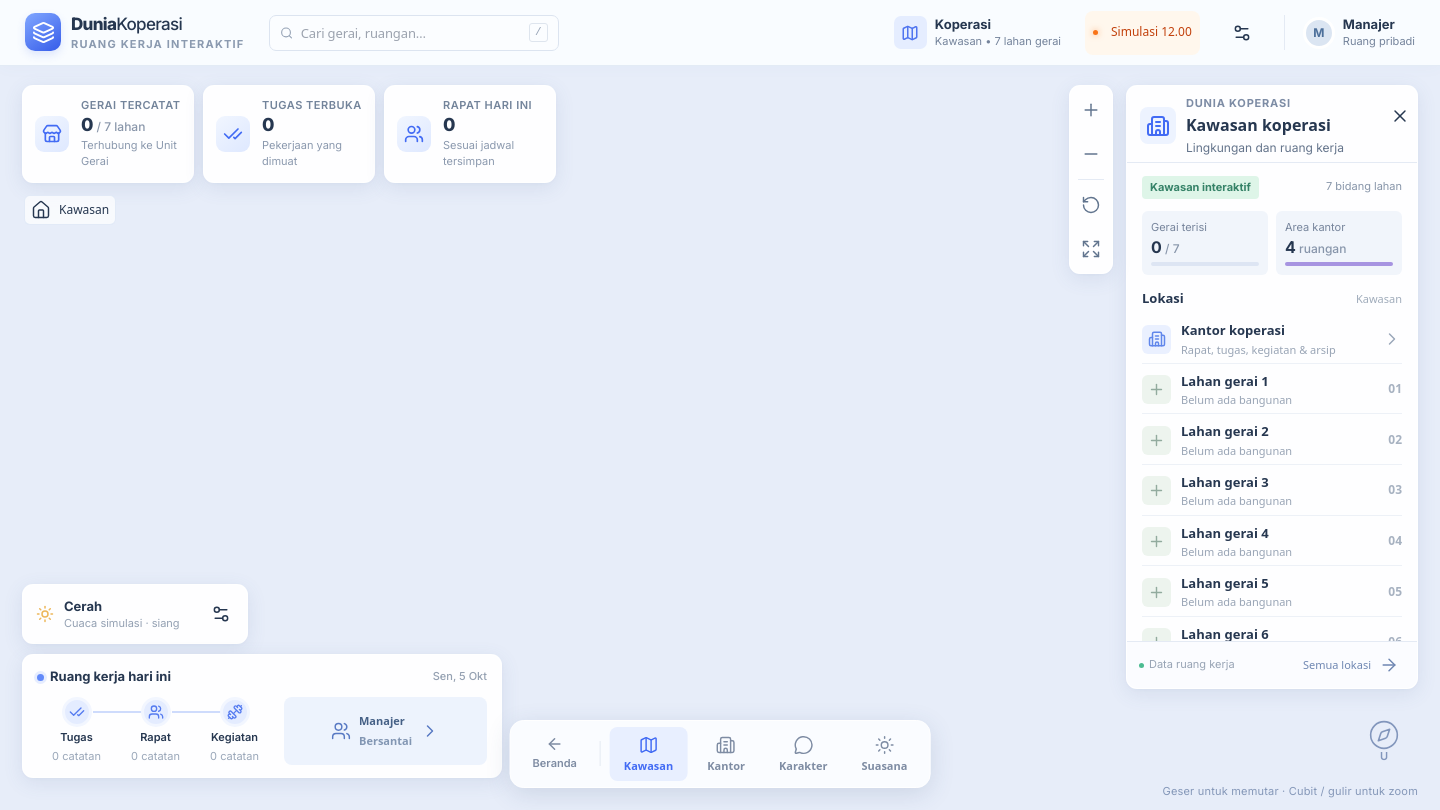
Test: preferensi korup tidak mencegah halaman tampil
The image size is (1440, 810).
Step 1. Click the button "Suasana" → x=884, y=754, box x1=848 y1=727 x2=921 y2=781
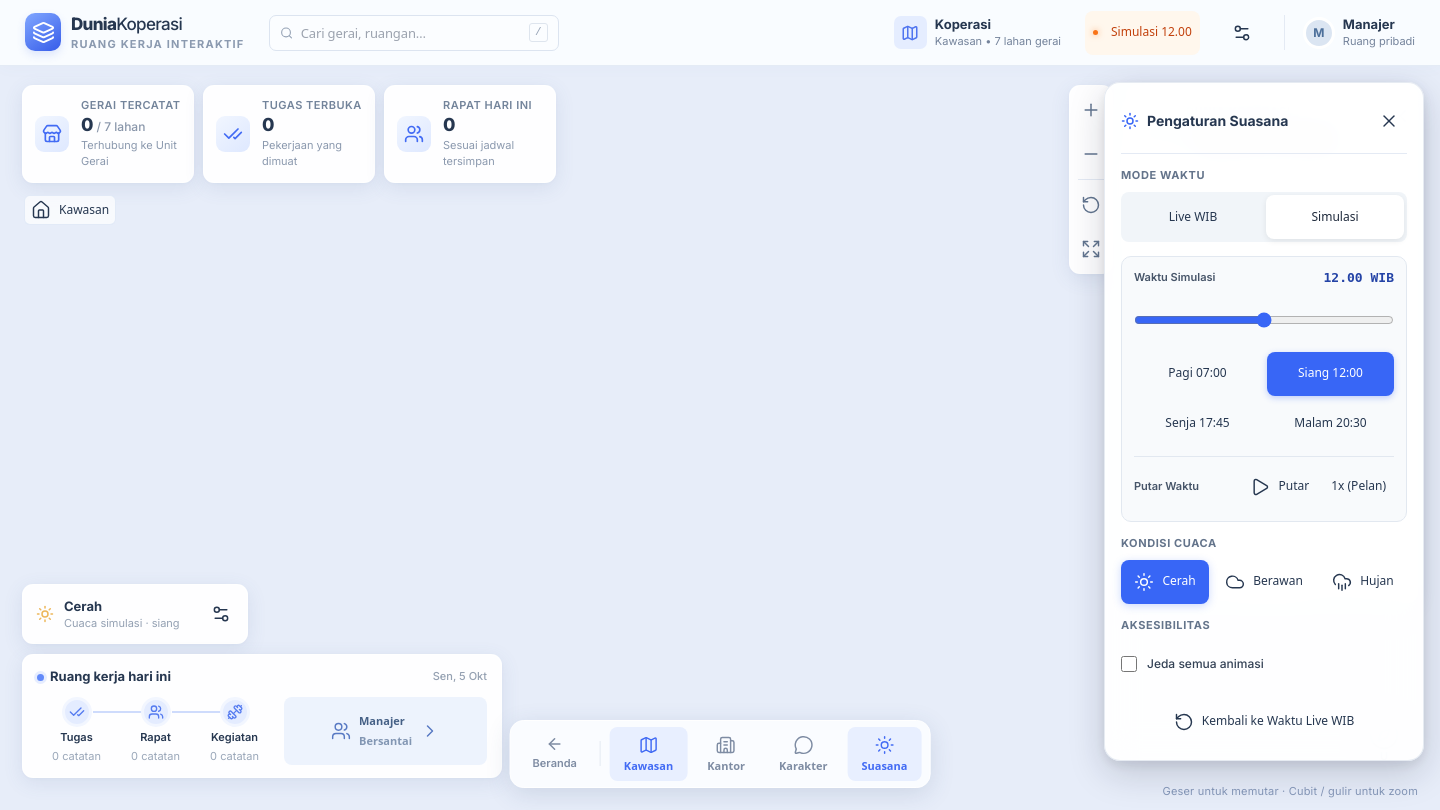
Expected: the heading "Suasana & karakter" is shown, x1=1186 y1=123 x2=1344 y2=144
Expected: the text "Cuaca adalah simulasi" is shown, x1=1142 y1=205 x2=1389 y2=240
